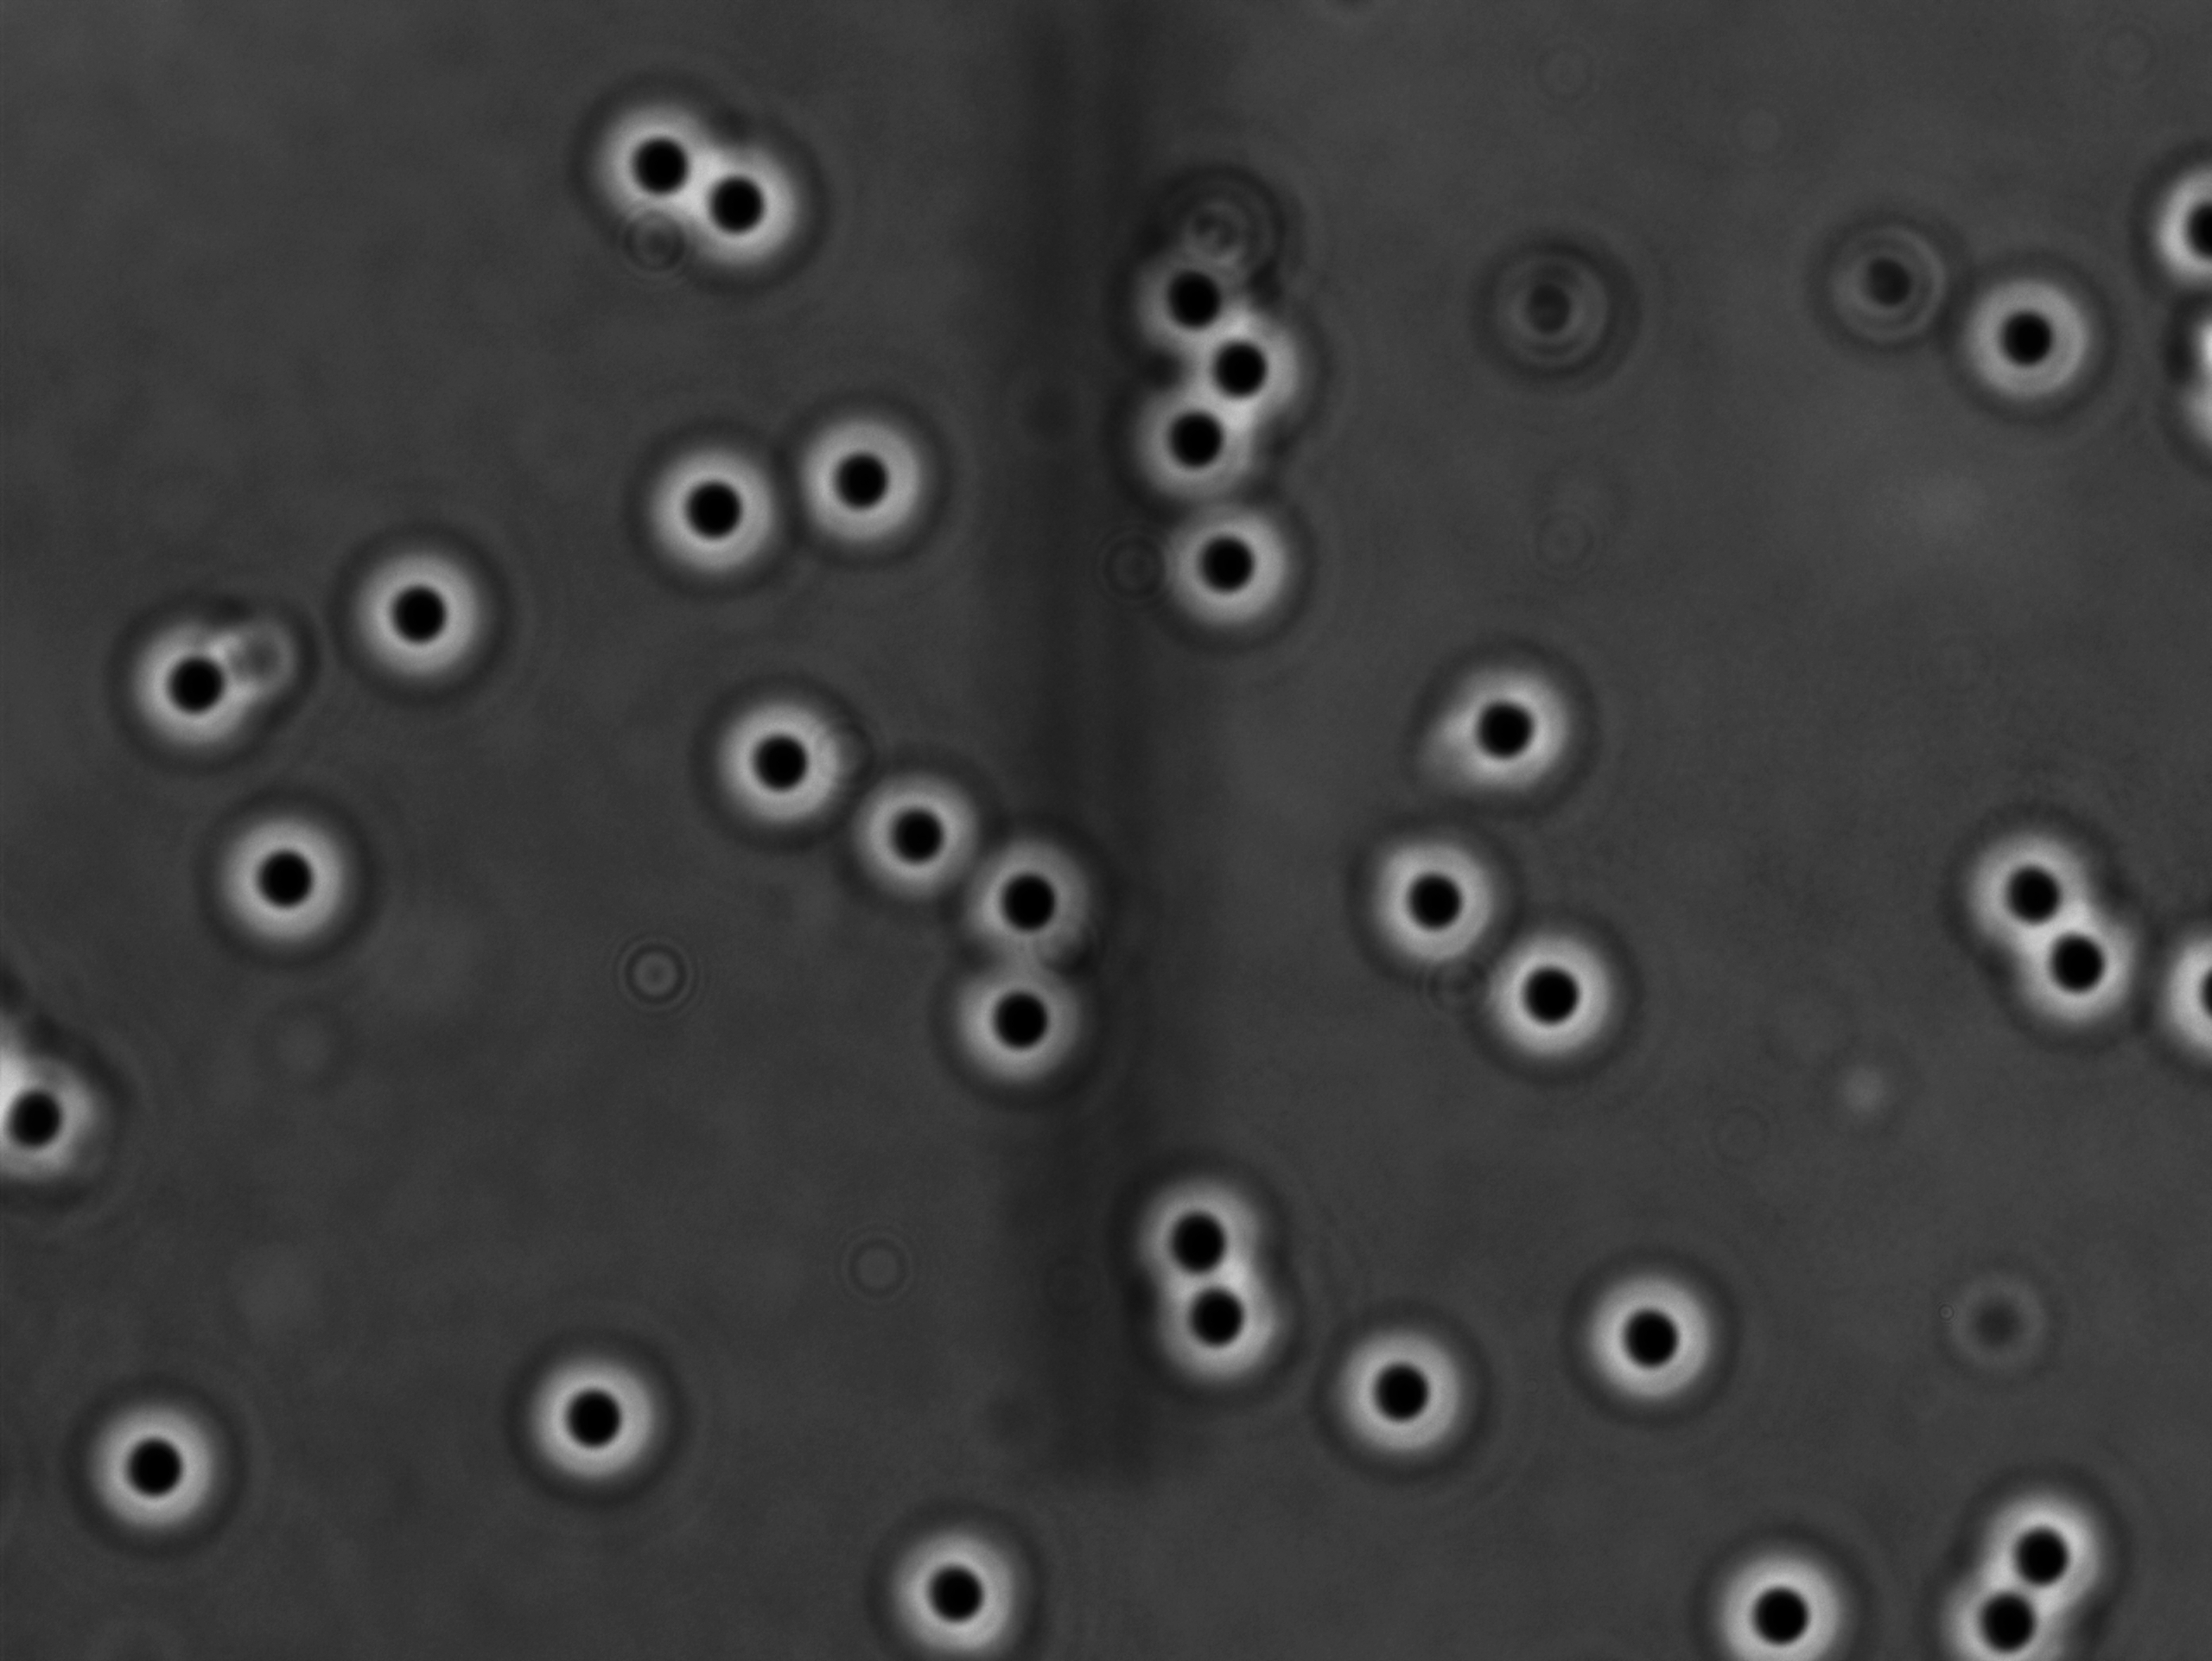depth:-60: (1936, 248, 2118, 429), (867, 1495, 1062, 1661), (1959, 1462, 2146, 1631), (79, 1382, 263, 1551), (508, 1338, 689, 1504), (1474, 897, 1636, 1075), (202, 801, 372, 968), (1567, 1251, 1727, 1425), (790, 394, 956, 560), (626, 429, 790, 595), (1317, 1302, 1478, 1471), (1423, 644, 1587, 804), (1954, 808, 2118, 968), (1340, 824, 1500, 984), (930, 946, 1099, 1096), (942, 827, 1103, 982), (583, 79, 738, 239), (338, 546, 499, 700), (1139, 485, 1300, 639), (1148, 1251, 1307, 1399), (1116, 1169, 1277, 1314), (672, 133, 825, 277), (700, 689, 855, 832), (1997, 895, 2149, 1040), (855, 755, 1005, 899), (1708, 1535, 1868, 1661), (1921, 1548, 2076, 1661)
